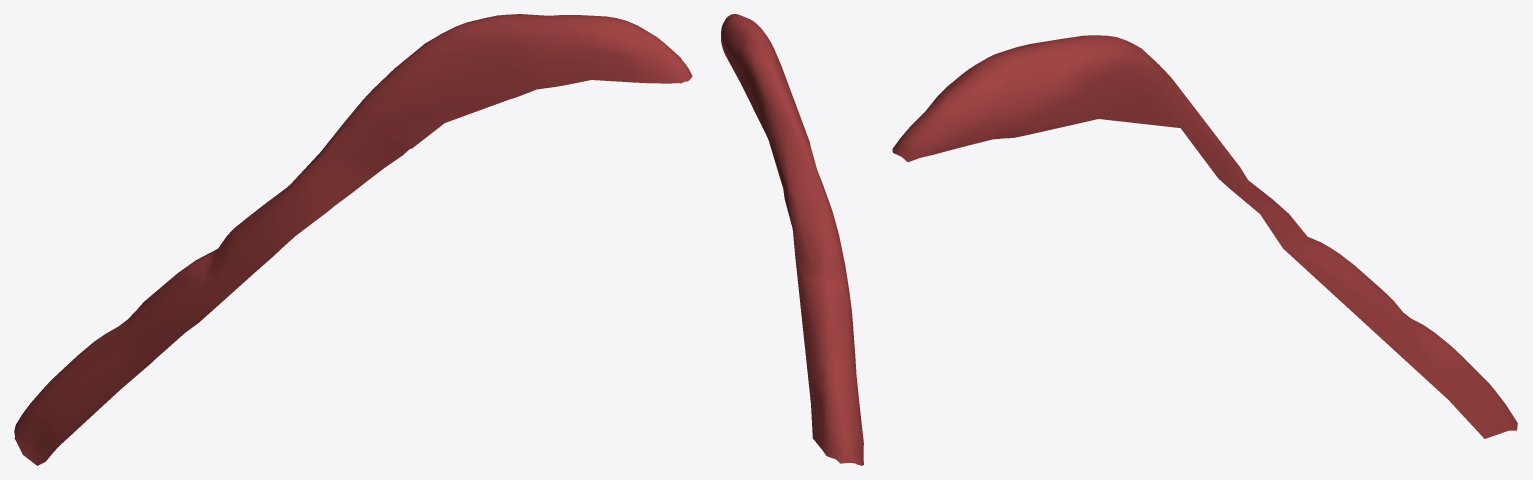
The model's file is levator-scapulae-el.glb.
The picture shows the model from 3 angles, left to right: view 1: azimuth 30°, elevation 25°; view 2: azimuth 150°, elevation 25°; view 3: azimuth 270°, elevation 25°; orthographic projection. The views are drawn at different scales.
Parts seen in each view (by area): view 1: Levator scapulae.el; view 2: Levator scapulae.el; view 3: Levator scapulae.el.
Part boxes in pixels (left/top/right/bottom): Levator scapulae.el: left=14, top=14, right=692, bottom=465; Levator scapulae.el: left=721, top=14, right=863, bottom=465; Levator scapulae.el: left=892, top=35, right=1517, bottom=438.
Bounding box in the file's own units: 0.0217 × 0.0228 × 0.0213.
